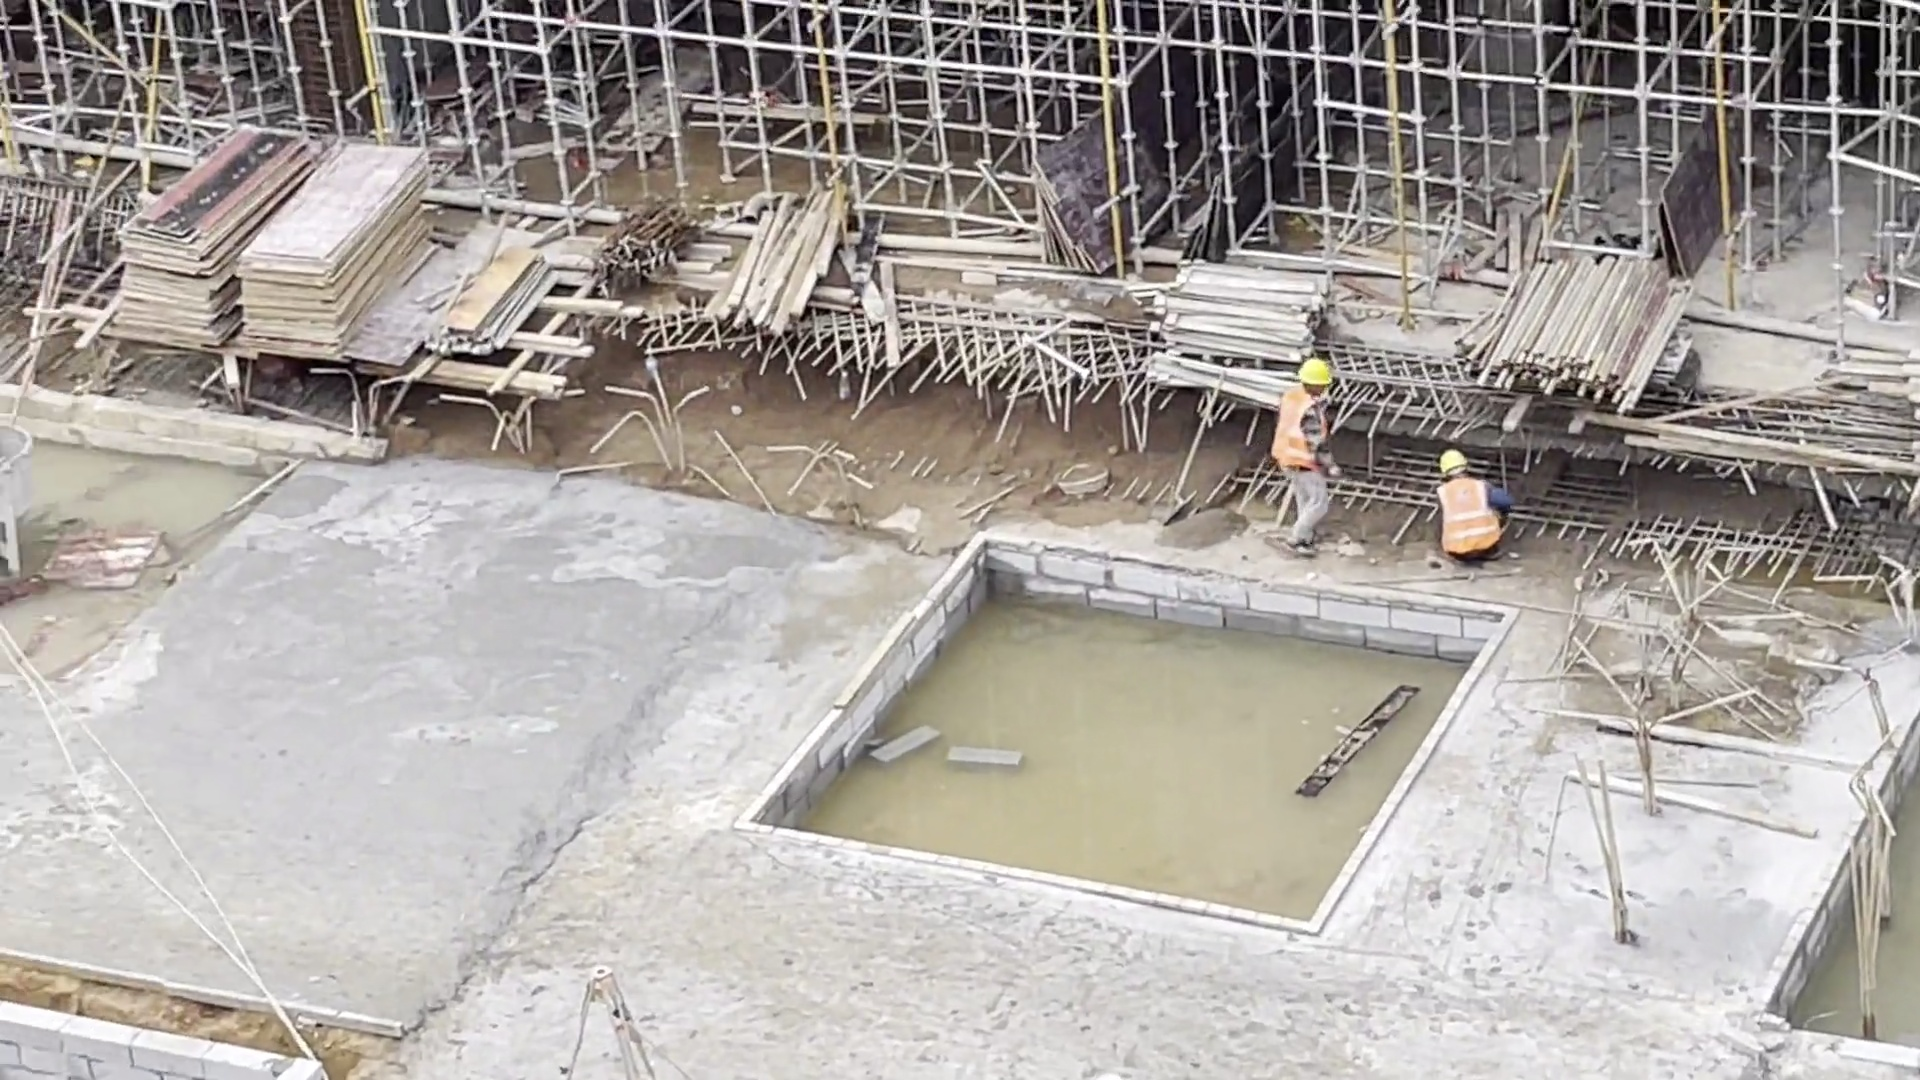board: (111, 125, 320, 339), (244, 143, 428, 346)
helmet: (1296, 357, 1330, 386), (1436, 450, 1465, 476)
person: (1264, 356, 1349, 556), (1429, 452, 1518, 572)
rebar: (588, 203, 693, 301)
vest: (1437, 474, 1503, 558), (1274, 387, 1330, 477)
wood: (1146, 259, 1331, 403), (697, 170, 857, 332)
